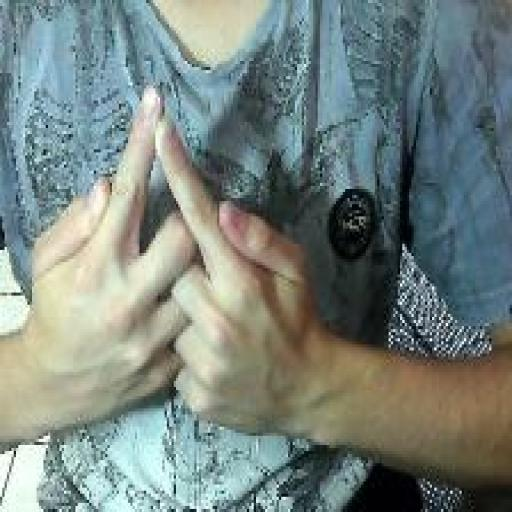Uma -horse-: (24, 75, 317, 440)
